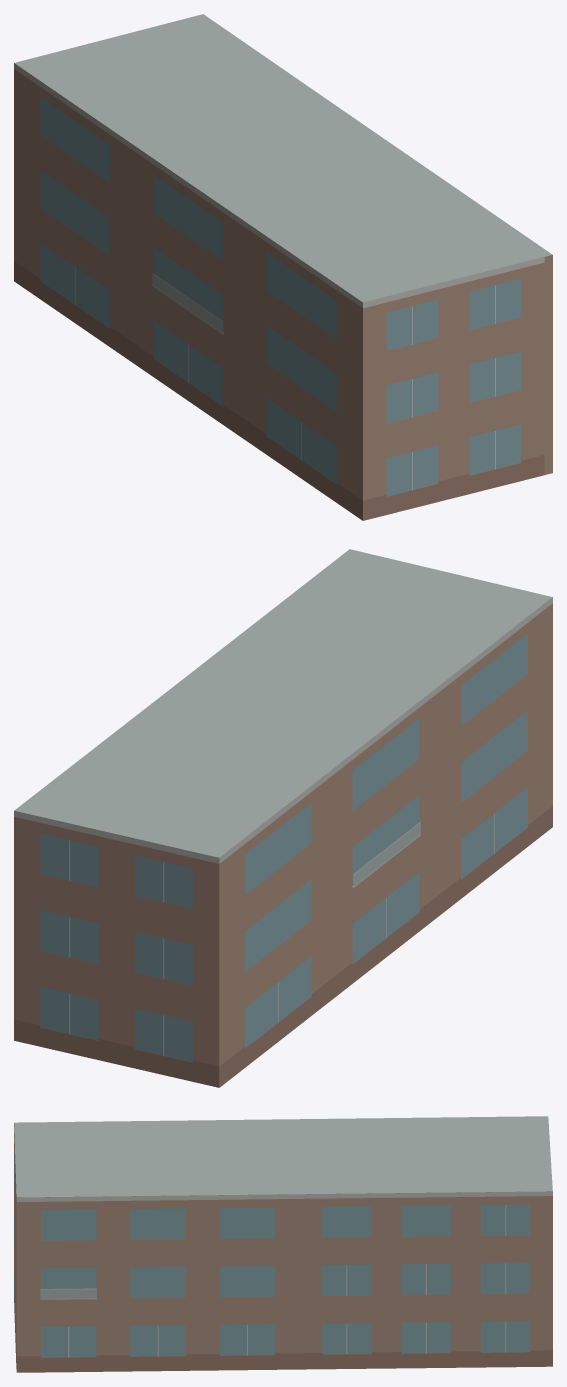
The model's file is survey-upis-32718321.glb.
3 renders of one model, top to bottom at view 1: azimuth 30°, elevation 25°; view 2: azimuth 150°, elevation 25°; view 3: azimuth 270°, elevation 25°, orthographic. The views are drawn at different scales.
Visible parts, largest first — view 1: survey-upis-32718321.tmp; view 2: survey-upis-32718321.tmp; view 3: survey-upis-32718321.tmp.
Boxes of the visible parts, x1,y1,x2,y2 form: survey-upis-32718321.tmp: (14, 14, 552, 520); survey-upis-32718321.tmp: (14, 549, 552, 1087); survey-upis-32718321.tmp: (14, 1116, 552, 1372).
Bounding box in the file's own units: 9.11 × 9.15 × 25.5.
